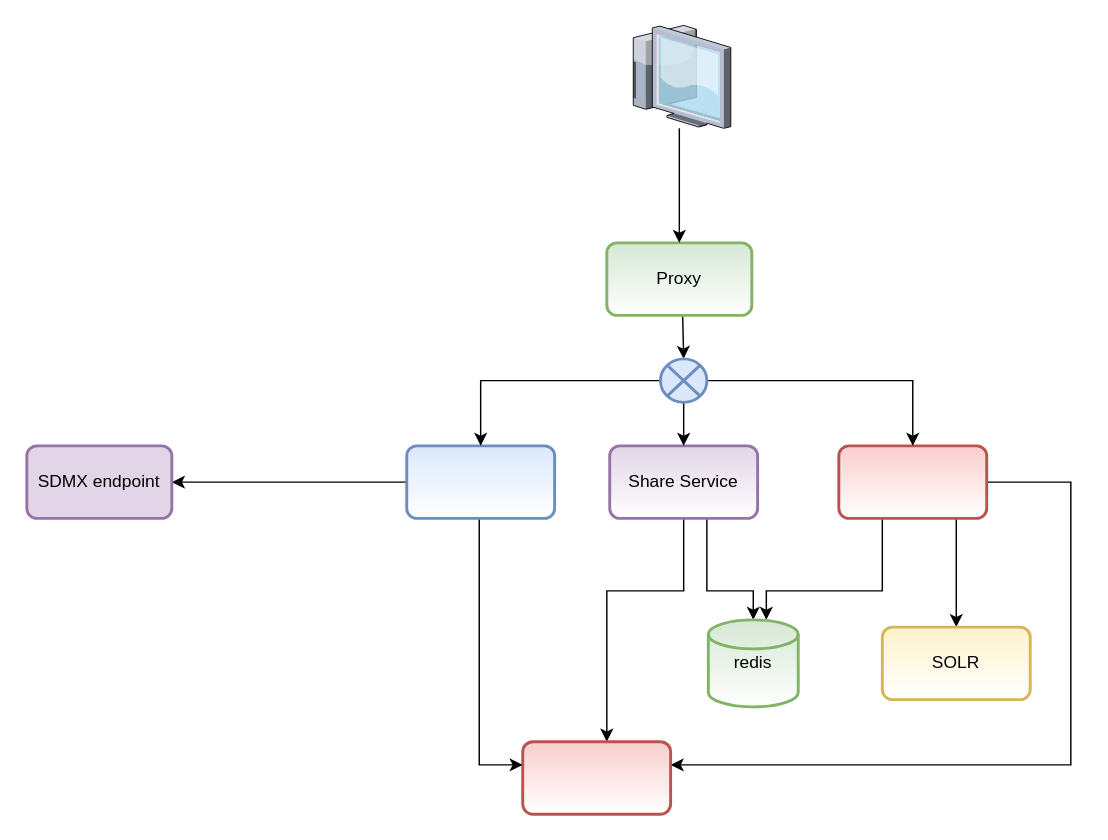
The diagram is 1108 pixels wide and 840 high, and some of its shapes have lost their labels. The centre of each missing label's shape, as x and y in pixels:
"Config" belongs at pixel 596 777.
"DataExplorer" belongs at pixel 480 481.
"Search Service" belongs at pixel 912 481.
